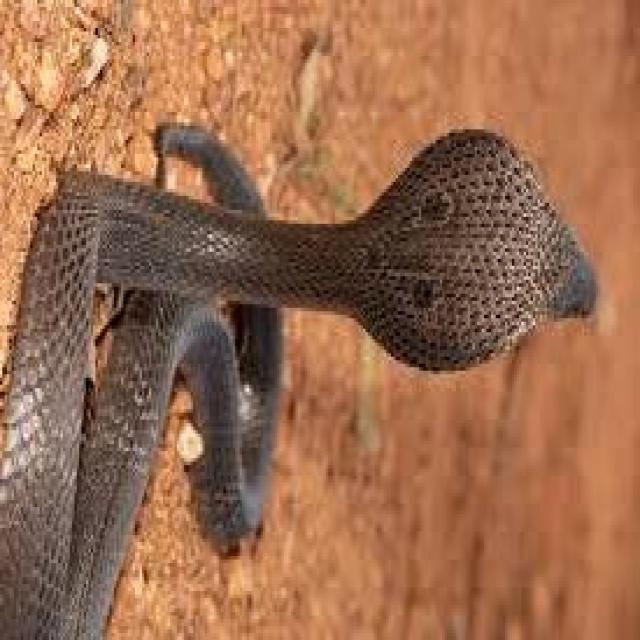Venomous: (374, 137, 606, 407)
